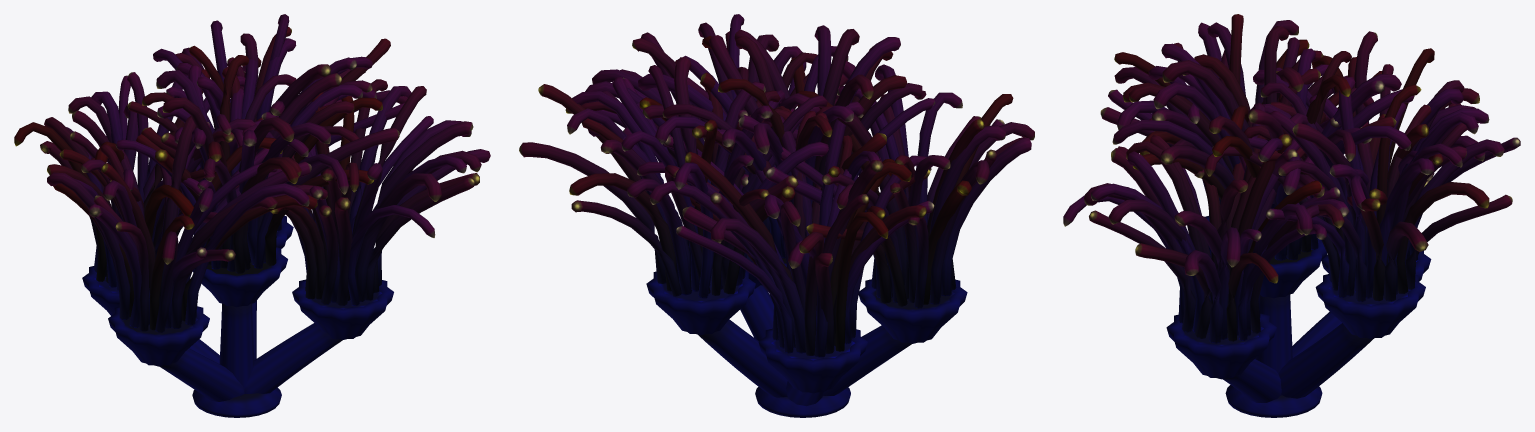
File: reef-euphyllia-flowing-torch.glb
3 views of the same model, side by side, from view 1: azimuth 30°, elevation 25°; view 2: azimuth 150°, elevation 25°; view 3: azimuth 270°, elevation 25° (orthographic). The views are drawn at different scales.
Visible parts, largest first — view 1: Reef_Euphyllia_Flowing_Torch; view 2: Reef_Euphyllia_Flowing_Torch; view 3: Reef_Euphyllia_Flowing_Torch.
Part boxes in pixels (x1,y1,x2,y2): Reef_Euphyllia_Flowing_Torch: [14, 14, 490, 417]; Reef_Euphyllia_Flowing_Torch: [519, 14, 1034, 417]; Reef_Euphyllia_Flowing_Torch: [1063, 14, 1520, 417].
Bounding box in the file's own units: 0.2296 × 0.177 × 0.2095.
Materials: 2 (2 with a texture image).
